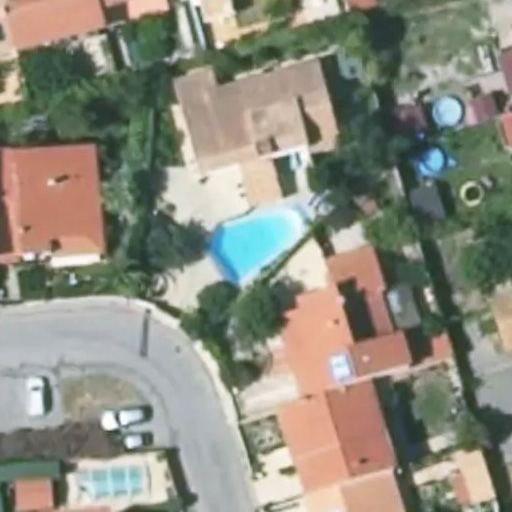pool: (213, 212, 300, 282), (71, 465, 152, 497), (411, 142, 443, 175), (433, 97, 463, 129)
